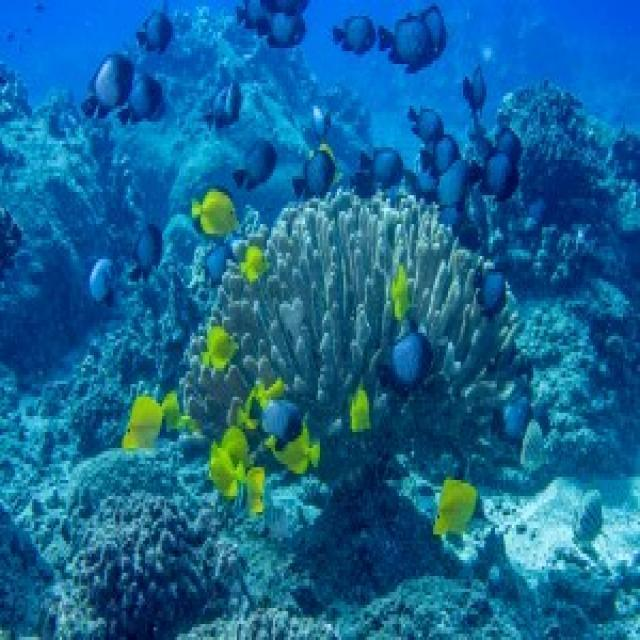Bleached: (185, 173, 526, 438)
Healthy: (506, 93, 640, 274), (74, 492, 213, 640)
